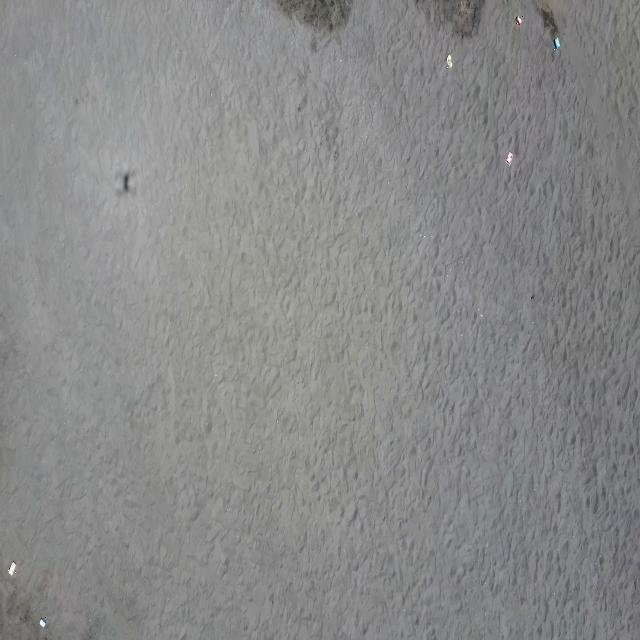Garbage: (504, 151, 512, 164), (552, 35, 559, 48), (8, 563, 15, 575), (515, 16, 522, 26), (447, 54, 451, 67), (40, 616, 44, 627)
